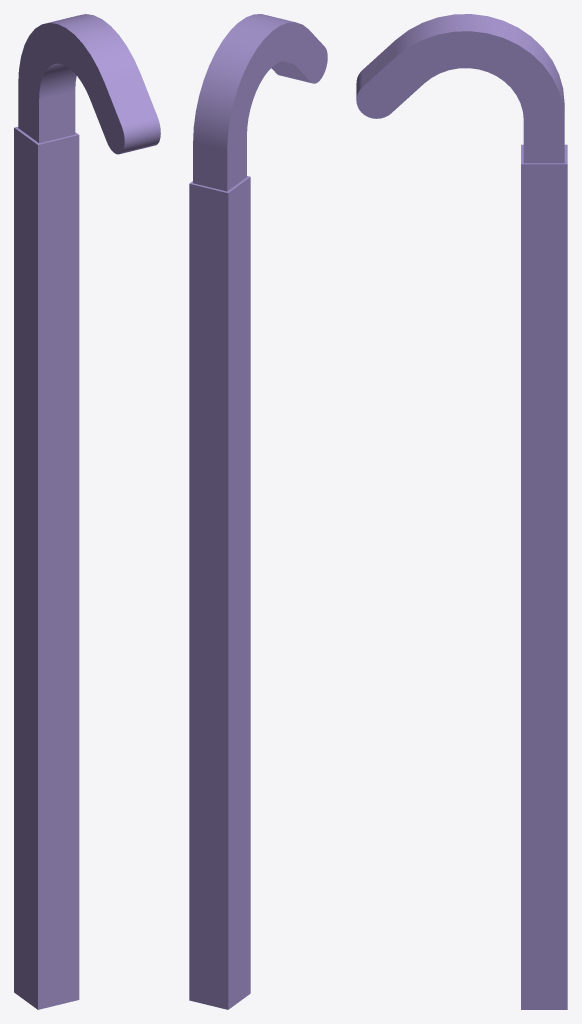
3 views of the same model, side by side, from view 1: azimuth 30°, elevation 25°; view 2: azimuth 150°, elevation 25°; view 3: azimuth 270°, elevation 25° (orthographic). The views are drawn at different scales.
Parts seen in each view (by area): view 1: Stage 1; view 2: Stage 1; view 3: Stage 1.
Part boxes in pixels (left/top/right/bottom): Stage 1: left=14, top=14, right=160, bottom=1009; Stage 1: left=189, top=14, right=327, bottom=1009; Stage 1: left=356, top=14, right=567, bottom=1009.
Bounding box in the file's own units: 0.0254 × 0.5873 × 0.1149.
